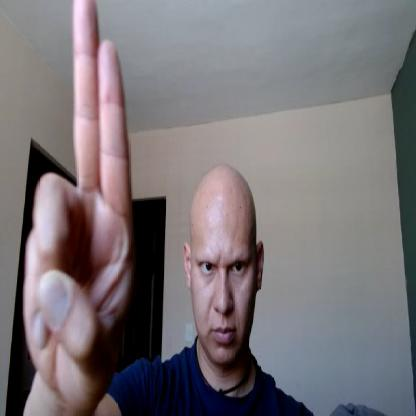U: (24, 0, 132, 413)
